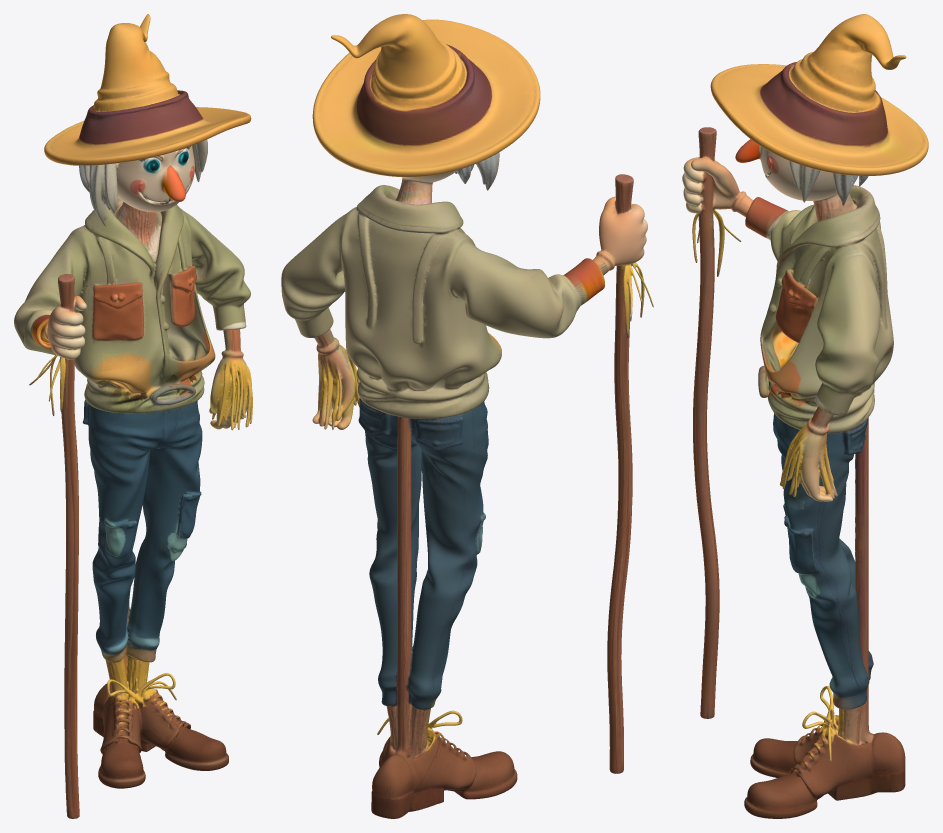
Rendered from Model_Scarecrow.glb.
3 renders of one model, left to right at view 1: azimuth 30°, elevation 25°; view 2: azimuth 150°, elevation 25°; view 3: azimuth 270°, elevation 25°, orthographic. The views are drawn at different scales.
Bounding box in the file's own units: 0.7358 × 1.9 × 0.5484.
Materials: 1 (1 with a texture image).
